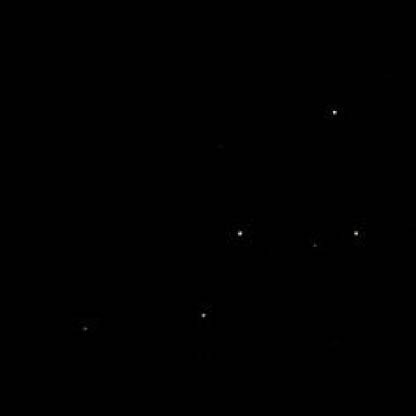Cassiopeia: (310, 217, 367, 257), (228, 221, 250, 249), (188, 304, 212, 329), (325, 103, 347, 126), (72, 317, 92, 337)
